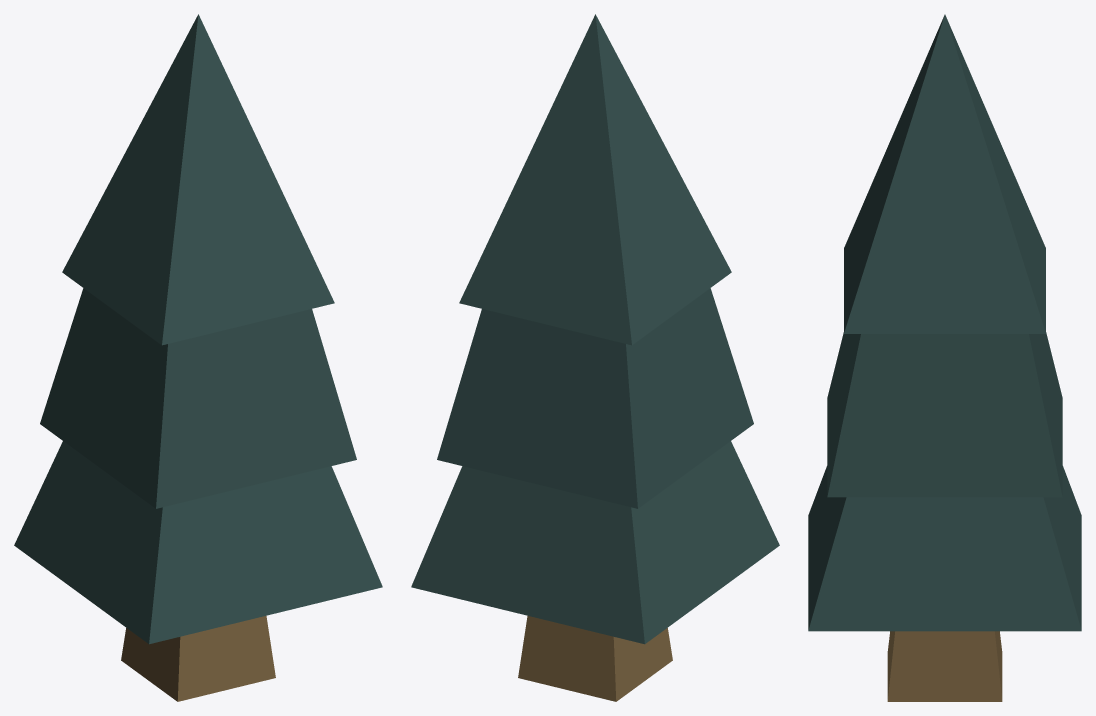
The model's file is Tree_01.obj.
3 renders of one model, left to right at view 1: azimuth 30°, elevation 25°; view 2: azimuth 150°, elevation 25°; view 3: azimuth 270°, elevation 25°, orthographic.
Visible parts, largest first — view 1: Mesh1_Tree_Model; view 2: Mesh1_Tree_Model; view 3: Mesh1_Tree_Model.
Boxes of the visible parts, left/top/right/bottom form: Mesh1_Tree_Model: left=14, top=14, right=382, bottom=701; Mesh1_Tree_Model: left=411, top=14, right=779, bottom=701; Mesh1_Tree_Model: left=808, top=14, right=1081, bottom=701.
Bounding box in the file's own units: 1.18 × 3.16 × 1.18.
